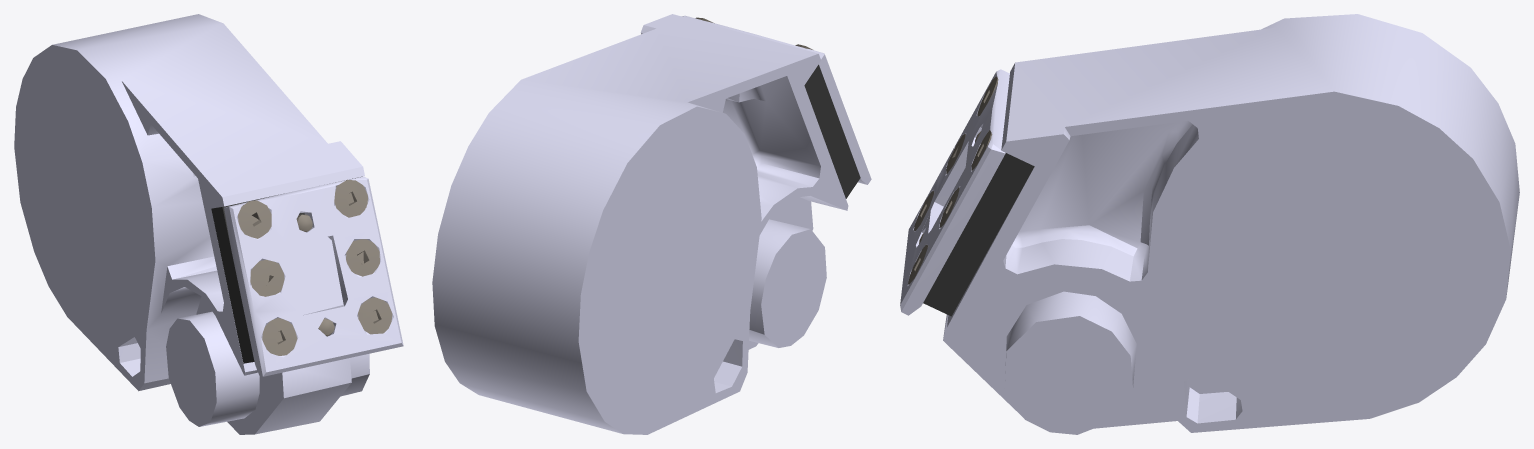
The model's file is right-knee.obj.
3 views of the same model, side by side, from view 1: azimuth 30°, elevation 25°; view 2: azimuth 150°, elevation 25°; view 3: azimuth 270°, elevation 25° (orthographic). The views are drawn at different scales.
Parts seen in each view (by area): view 1: right_knee; view 2: right_knee; view 3: right_knee.
Boxes of the visible parts, x1,y1,x2,y2 form: right_knee: (14,14,403,434); right_knee: (432,14,871,434); right_knee: (900,14,1519,434).
Bounding box in the file's own units: 0.0566 × 0.1057 × 0.1655.
Materials: 1 (1 with a texture image).
